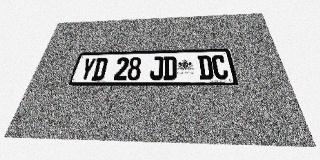2: (113, 57, 130, 80)
8: (127, 57, 142, 80)
C: (211, 55, 229, 79)
D: (197, 55, 214, 80), (91, 58, 108, 81), (163, 56, 177, 80)
J: (149, 56, 163, 80)
Y: (78, 58, 96, 81)
